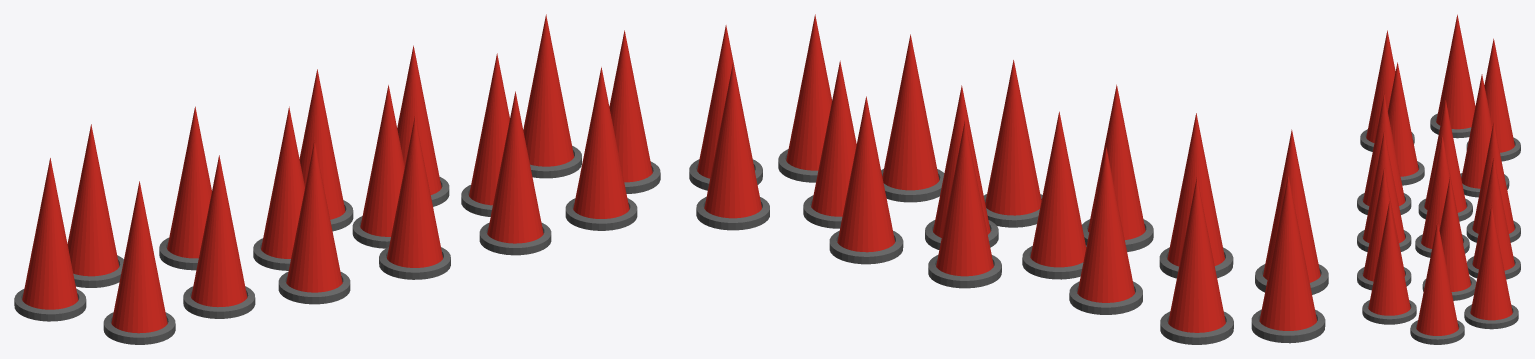
The model's file is dikenler.fbx.
3 renders of one model, left to right at view 1: azimuth 30°, elevation 25°; view 2: azimuth 150°, elevation 25°; view 3: azimuth 270°, elevation 25°, orthographic. The views are drawn at different scales.
Parts seen in each view (by area): view 1: Cone.004, Cone.015, Cone.006, Cone.011, Cone.010, Cone.005, Cone.001, Cone.008, Cone.012, Cone.007, Cone.014, Cone.002 (+4 smaller); view 2: Cone, Cone.015, Cone.012, Cone.008, Cone.013, Cone.007, Cone.002, Cone.005, Cone.001, Cone.004, Cone.003, Cone.010 (+4 smaller); view 3: Cone.004, Cone.008, Cone.009, Cone.015, Cone.003, Cone, Cone.007, Cone.010, Cone.012, Cone.014, Cone.001, Cone.006 (+4 smaller).
Part boxes in pixels (x1,y1,x2,y2): Cone.004: [565, 67, 637, 230]; Cone.015: [14, 158, 86, 321]; Cone.006: [278, 140, 350, 304]; Cone.011: [103, 181, 175, 344]; Cone.010: [183, 155, 255, 318]; Cone.005: [479, 91, 551, 255]; Cone.001: [379, 116, 450, 279]; Cone.008: [523, 14, 581, 178]; Cone.012: [67, 124, 123, 287]; Cone.007: [159, 106, 211, 270]; Cone.014: [352, 85, 404, 248]; Cone.002: [253, 106, 304, 270]; Cone: [829, 96, 903, 264]; Cone.015: [1251, 175, 1325, 343]; Cone.012: [1160, 177, 1233, 344]; Cone.008: [696, 62, 769, 230]; Cone.013: [928, 120, 1001, 288]; Cone.007: [1069, 147, 1142, 314]; Cone.002: [1022, 111, 1086, 279]; Cone.005: [881, 34, 944, 202]; Cone.001: [984, 60, 1042, 227]; Cone.004: [778, 14, 831, 182]; Cone.003: [803, 60, 856, 228]; Cone.010: [1159, 113, 1233, 278]; Cone.004: [1362, 201, 1416, 324]; Cone.008: [1464, 206, 1518, 329]; Cone.009: [1410, 221, 1464, 344]; Cone.015: [1430, 14, 1475, 138]; Cone.003: [1422, 177, 1476, 300]; Cone: [1467, 157, 1520, 279]; Cone.007: [1460, 74, 1509, 197]; Cone.010: [1388, 62, 1424, 185]; Cone.012: [1466, 38, 1520, 161]; Cone.014: [1415, 136, 1469, 257]; Cone.001: [1357, 131, 1411, 251]; Cone.006: [1357, 94, 1411, 214].
Bounding box in the file's own units: 2482 × 568 × 748.
